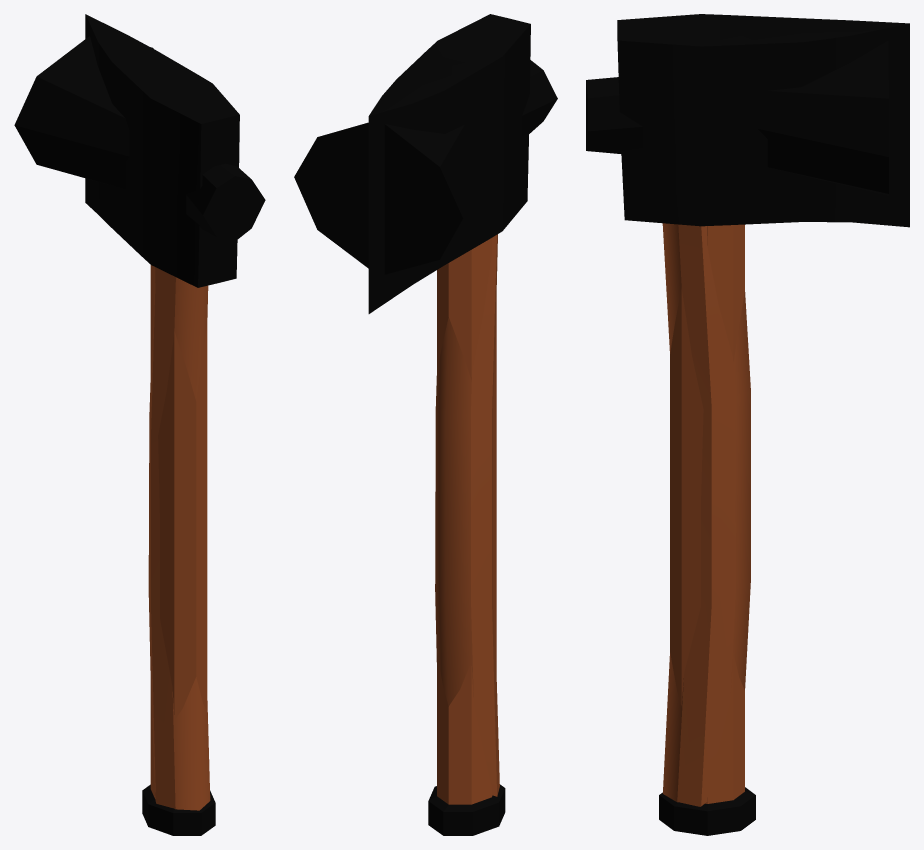
The model's file is hammer.fbx.
3 renders of one model, left to right at view 1: azimuth 30°, elevation 25°; view 2: azimuth 150°, elevation 25°; view 3: azimuth 270°, elevation 25°, orthographic. The views are drawn at different scales.
Parts seen in each view (by area): view 1: Axe, Hammer; view 2: Axe, Hammer; view 3: Axe, Hammer.
Boxes of the visible parts, x1,y1,x2,y2 form: Axe: [85, 14, 239, 810]; Hammer: [14, 36, 265, 835]; Axe: [368, 14, 530, 796]; Hammer: [294, 60, 557, 835]; Axe: [617, 14, 909, 806]; Hammer: [586, 41, 888, 835].
Bounding box in the file's own units: 14.44 × 63.17 × 23.27.
